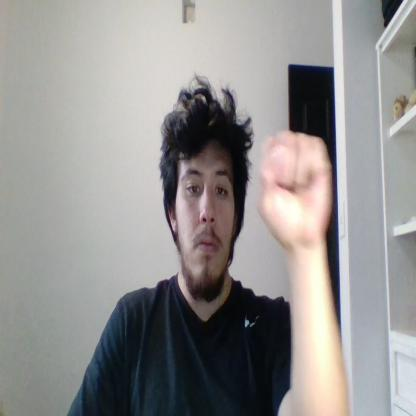S: (256, 130, 332, 252)
